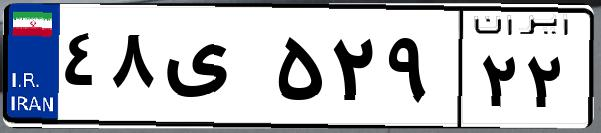2: (330, 28, 385, 110), (475, 38, 525, 113), (525, 38, 570, 115)
4: (57, 26, 110, 100)
5: (270, 28, 330, 110)
8: (110, 28, 158, 98)
9: (385, 28, 445, 110)
ی: (158, 20, 270, 120)
